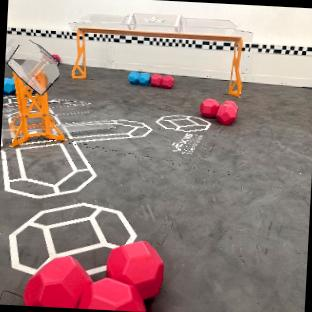V5_BLUE: (127, 71, 150, 85), (3, 77, 14, 93)
V5_RED: (24, 241, 162, 308), (200, 98, 238, 124), (150, 74, 173, 87), (52, 53, 59, 61)
